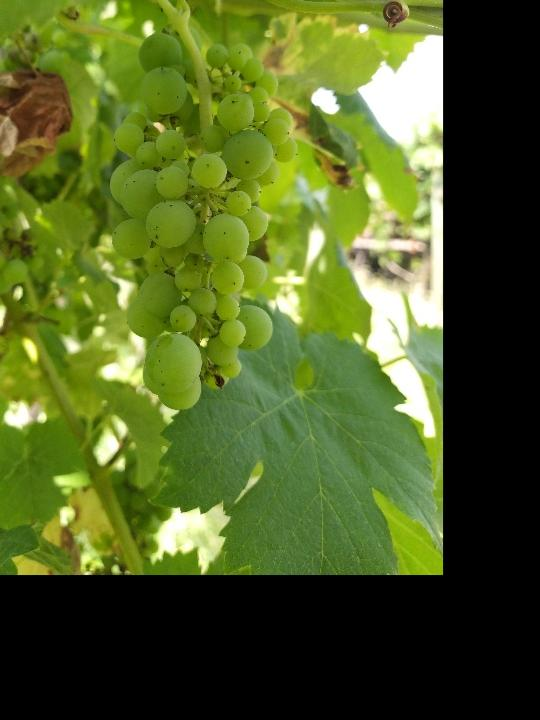grape: (102, 25, 301, 409)
